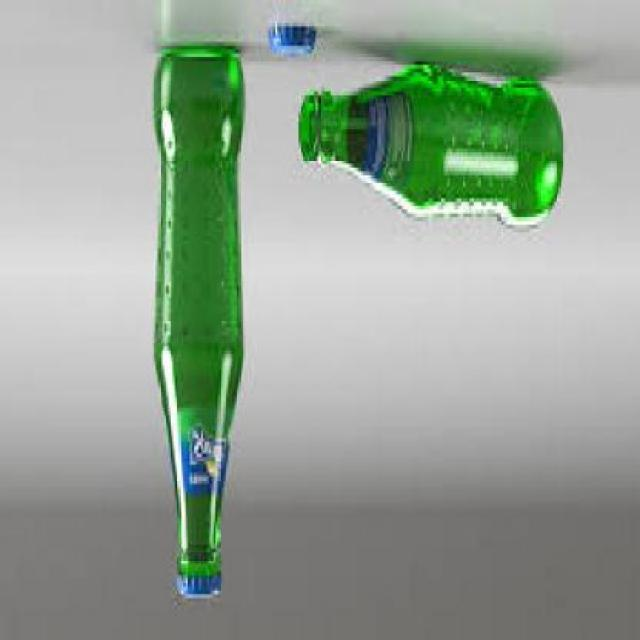GLASS: (151, 50, 244, 579), (299, 64, 562, 226)
METAL: (269, 24, 315, 56), (175, 583, 218, 602)
